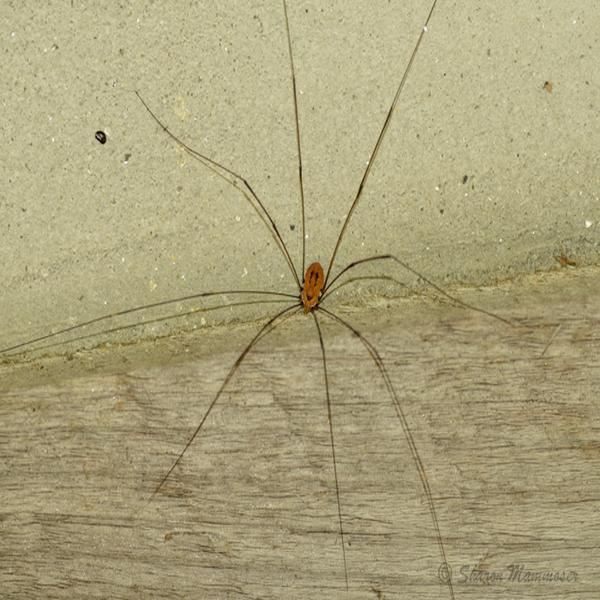Daddy Long Legs Spider: (35, 24, 507, 575)
